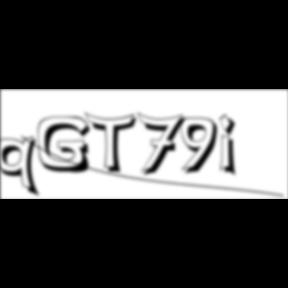7: (136, 111, 192, 179)
9: (180, 117, 224, 177)
G: (38, 116, 97, 176)
T: (85, 112, 143, 176)
i: (220, 112, 244, 180)
q: (0, 135, 44, 200)
